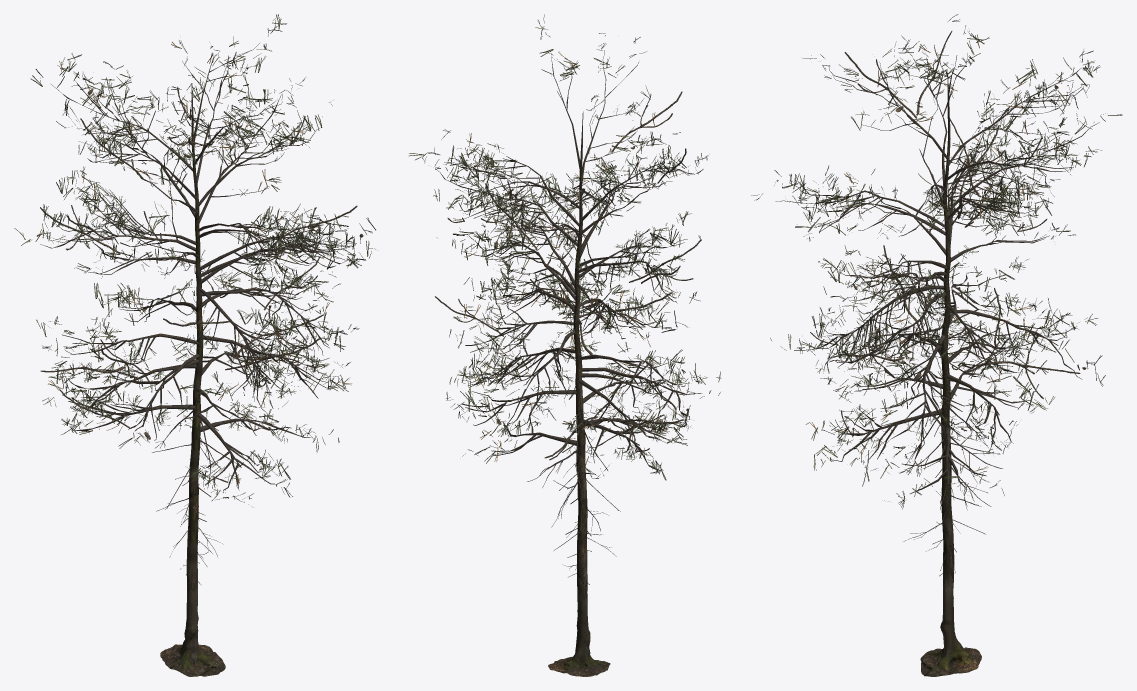
File: pine_tree_01_b.glb
3 views of the same model, side by side, from view 1: azimuth 30°, elevation 25°; view 2: azimuth 150°, elevation 25°; view 3: azimuth 270°, elevation 25° (orthographic). The views are drawn at different scales.
Visible parts, largest first — view 1: pine_tree_01_b_LOD0.003, pine_tree_01_b_LOD0.001, pine_tree_01_b_LOD0.002, pine_tree_01_b_LOD0; view 2: pine_tree_01_b_LOD0.003, pine_tree_01_b_LOD0.001, pine_tree_01_b_LOD0.002, pine_tree_01_b_LOD0; view 3: pine_tree_01_b_LOD0.003, pine_tree_01_b_LOD0.001, pine_tree_01_b_LOD0.002, pine_tree_01_b_LOD0.
Boxes of the visible parts, box(x1,y1,x2,y2) form: pine_tree_01_b_LOD0.003: box(14, 14, 375, 504); pine_tree_01_b_LOD0.001: box(40, 43, 352, 492); pine_tree_01_b_LOD0.002: box(160, 118, 225, 676); pine_tree_01_b_LOD0: box(152, 410, 236, 585); pine_tree_01_b_LOD0.003: box(409, 14, 721, 480); pine_tree_01_b_LOD0.001: box(435, 50, 703, 471); pine_tree_01_b_LOD0.002: box(548, 145, 610, 676); pine_tree_01_b_LOD0: box(527, 426, 620, 584); pine_tree_01_b_LOD0.003: box(751, 14, 1122, 509); pine_tree_01_b_LOD0.001: box(775, 46, 1099, 495); pine_tree_01_b_LOD0.002: box(920, 116, 981, 676); pine_tree_01_b_LOD0: box(903, 408, 1002, 587).
Size of the model in its own units: 7.25 by 14.92 by 7.59.
4 materials, 4 textured.
